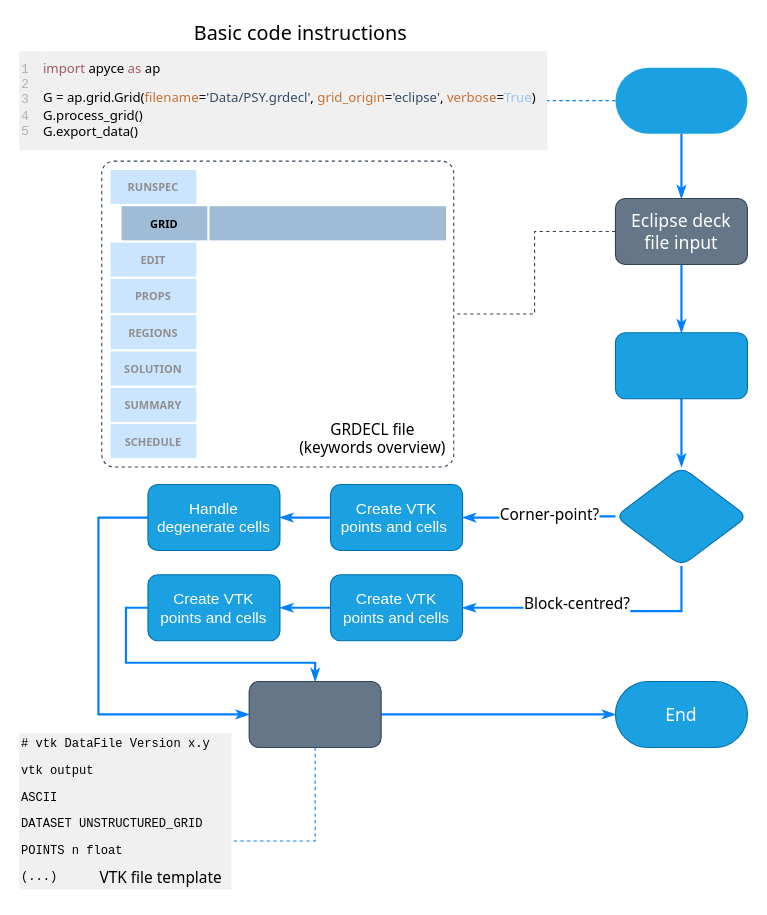
Some shapes in this 767 by 915 pixel diagram are drawn without their labels. Each missing label, with the box of its shape:
Export VTK / VTU: (248, 680, 381, 747)
Grid geometry and basic rock properties: (209, 206, 446, 240)
Grid type: (614, 466, 747, 566)
Read file: (614, 332, 747, 399)
Start: (615, 67, 747, 133)
